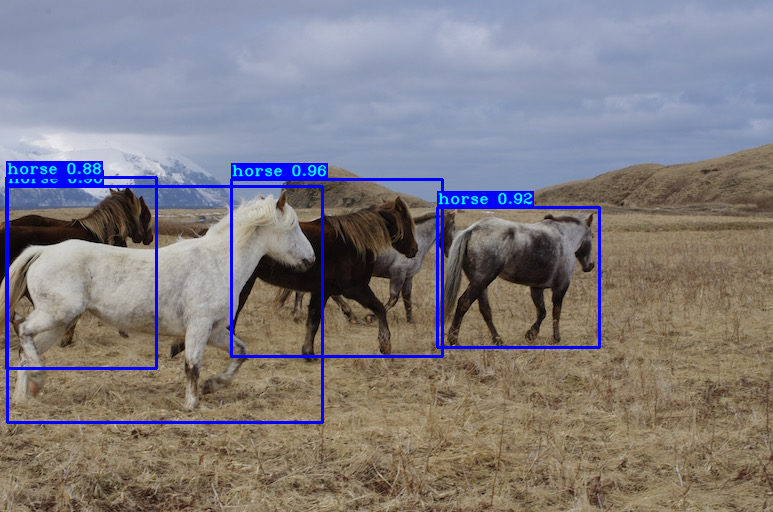horse: (7, 186, 322, 422), (231, 179, 442, 356), (6, 177, 156, 368), (437, 207, 599, 347)
